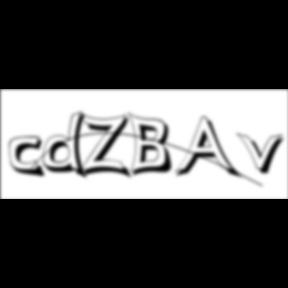A: (174, 116, 243, 182)
B: (128, 111, 178, 179)
Z: (80, 112, 134, 181)
c: (9, 136, 49, 180)
d: (43, 110, 93, 182)
